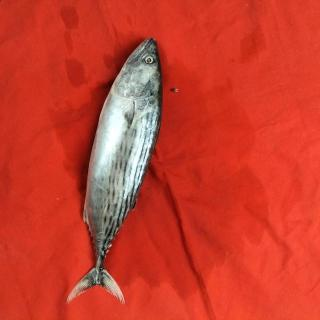Ikan: (66, 34, 166, 307)
